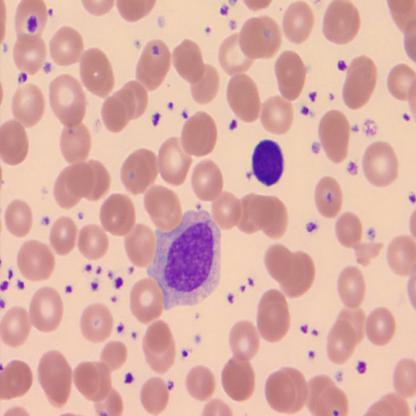Metamyelocyte: (143, 206, 223, 312)
